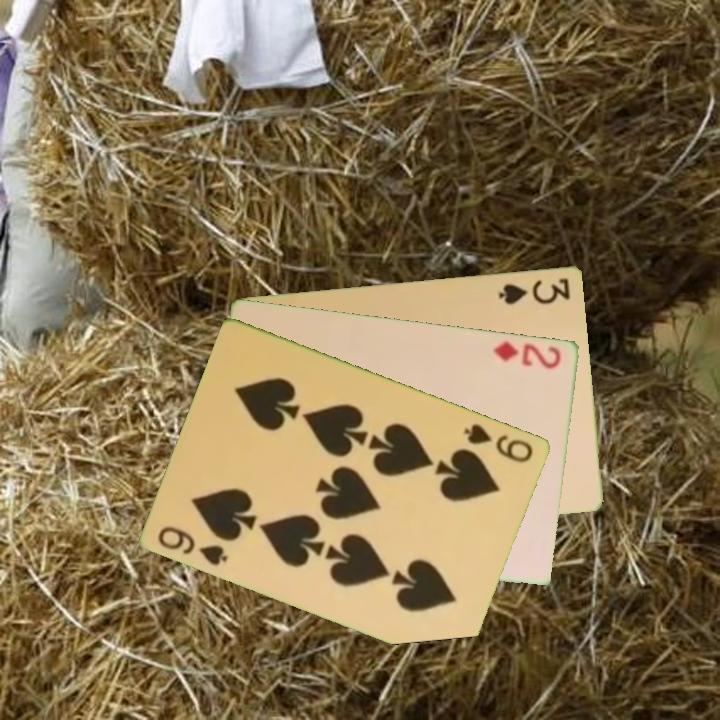2d: (491, 337, 564, 372)
3s: (495, 274, 574, 307)
9s: (154, 522, 232, 568), (460, 420, 537, 466)
